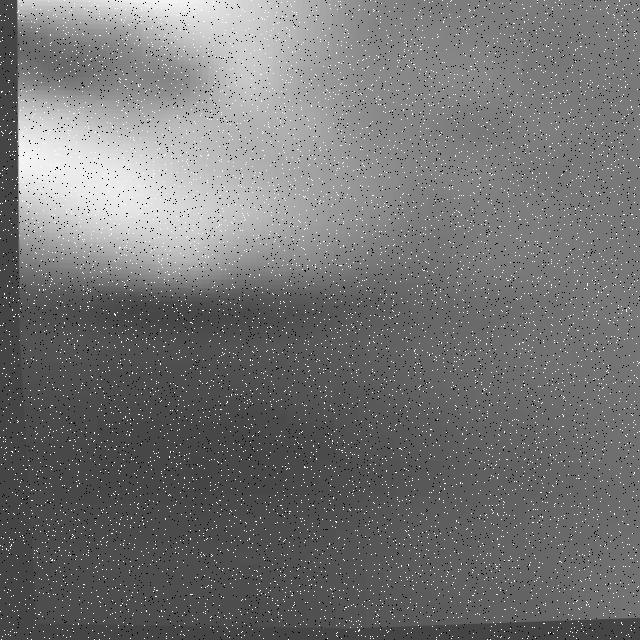person: (7, 76, 405, 298), (13, 1, 508, 99)
